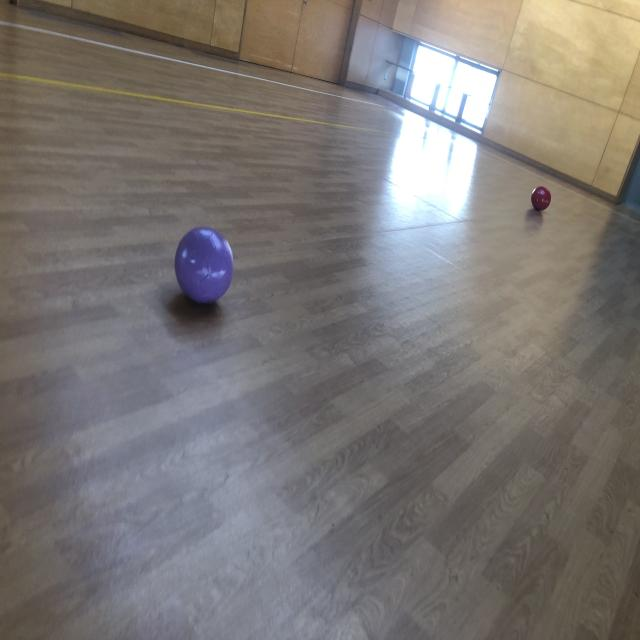purple_ball: (174, 229, 236, 304)
red_ball: (530, 186, 552, 212)
